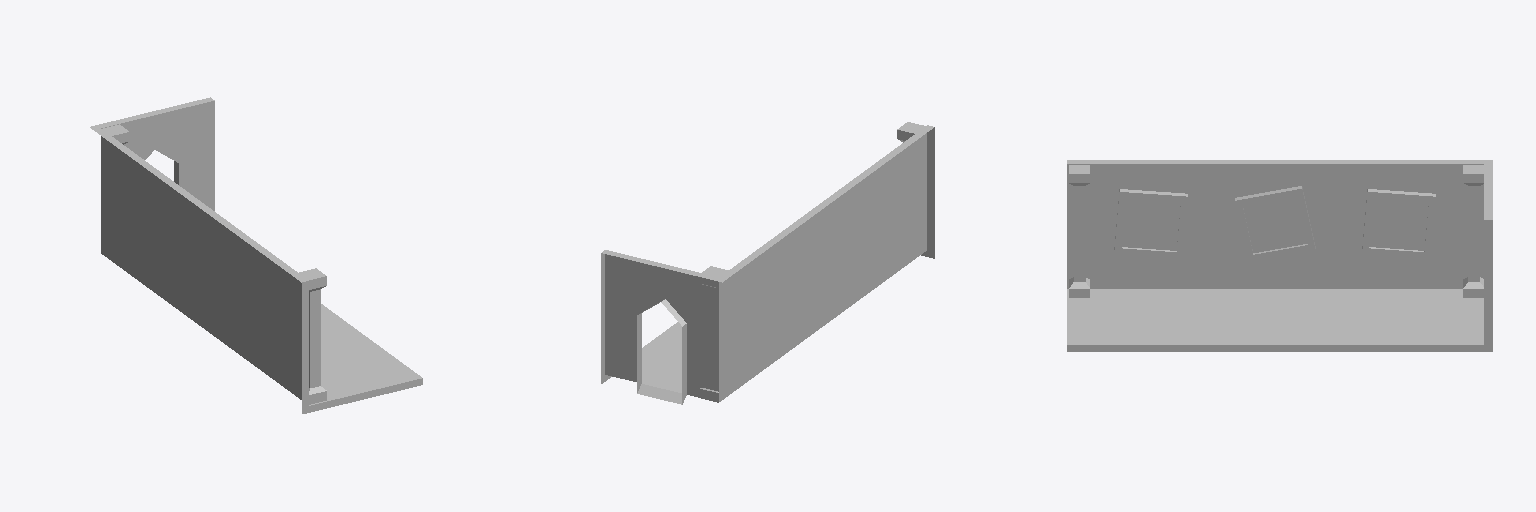
The model's file is corredor.obj.
3 views of the same model, side by side, from view 1: azimuth 30°, elevation 25°; view 2: azimuth 150°, elevation 25°; view 3: azimuth 270°, elevation 25° (orthographic).
Visible parts, largest first — view 1: Plane.009; view 2: Plane.009; view 3: Plane.009.
Boxes of the visible parts, x1,y1,x2,y2 form: Plane.009: [90, 97, 422, 413]; Plane.009: [601, 122, 934, 404]; Plane.009: [1067, 160, 1492, 351].
Size of the model in its own units: 2.04 by 2.12 by 6.18.